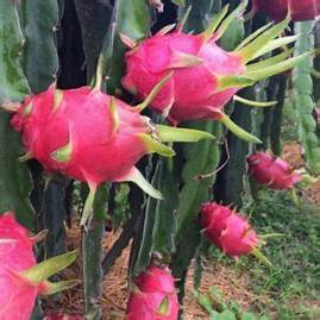thanh_long: (11, 87, 186, 197), (121, 25, 277, 119), (192, 196, 278, 265)
